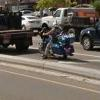Motorcycle: (36, 23, 81, 68)
